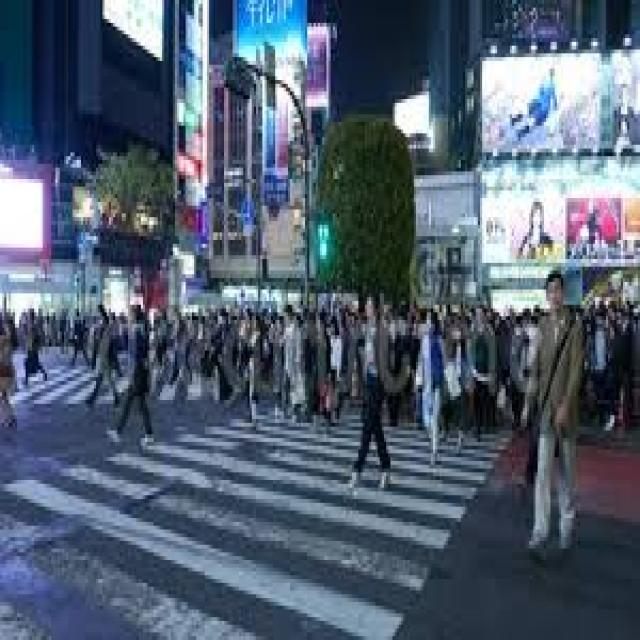Pedestrians: (529, 274, 582, 564), (348, 290, 392, 495), (119, 304, 158, 450), (416, 312, 444, 468)
